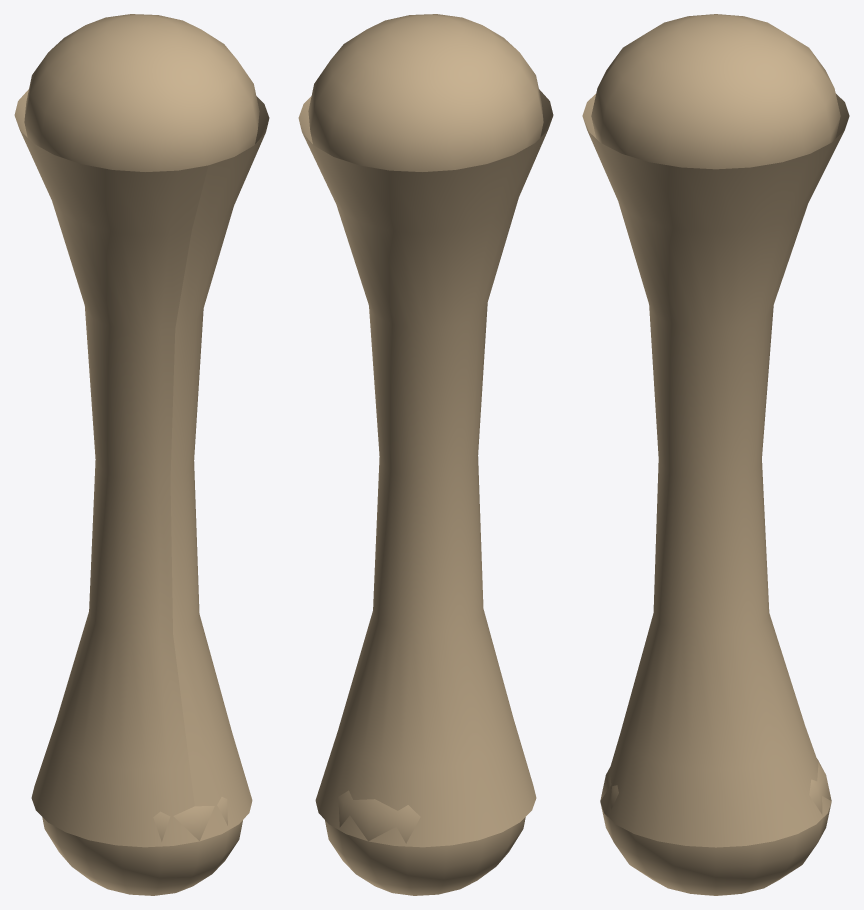
The model's file is left_metacarpal_1.glb.
The picture shows the model from 3 angles, left to right: view 1: azimuth 30°, elevation 25°; view 2: azimuth 150°, elevation 25°; view 3: azimuth 270°, elevation 25°; orthographic projection.
Parts seen in each view (by area): view 1: left_metacarpal_1:diaphysis, left_metacarpal_1:proximal-envelope, left_metacarpal_1:distal-envelope; view 2: left_metacarpal_1:diaphysis, left_metacarpal_1:proximal-envelope, left_metacarpal_1:distal-envelope; view 3: left_metacarpal_1:diaphysis, left_metacarpal_1:proximal-envelope, left_metacarpal_1:distal-envelope.
Boxes of the visible parts, x1,y1,x2,y2 form: left_metacarpal_1:diaphysis: (14, 89, 269, 847); left_metacarpal_1:proximal-envelope: (24, 14, 259, 171); left_metacarpal_1:distal-envelope: (42, 797, 242, 895); left_metacarpal_1:diaphysis: (298, 89, 553, 847); left_metacarpal_1:proximal-envelope: (308, 14, 543, 171); left_metacarpal_1:distal-envelope: (325, 790, 525, 895); left_metacarpal_1:diaphysis: (582, 93, 849, 847); left_metacarpal_1:proximal-envelope: (591, 14, 840, 169); left_metacarpal_1:distal-envelope: (600, 759, 831, 895).
Bounding box in the file's own units: 0.0799 × 0.3008 × 0.0846.
